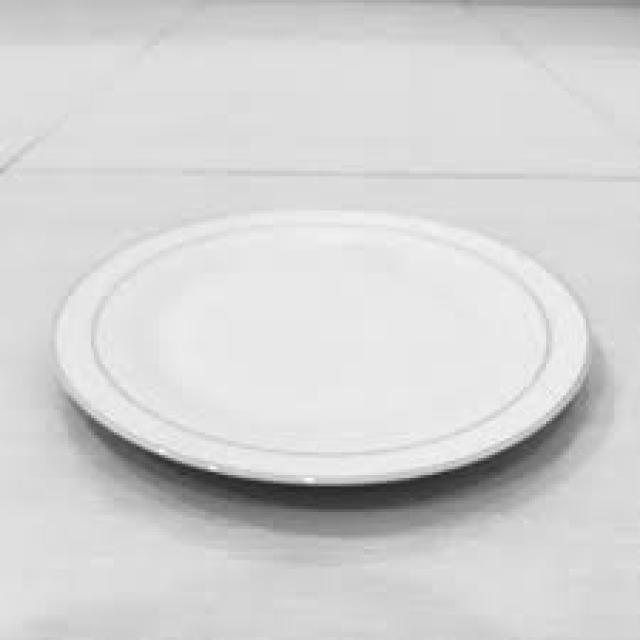dish: (39, 178, 609, 512)
